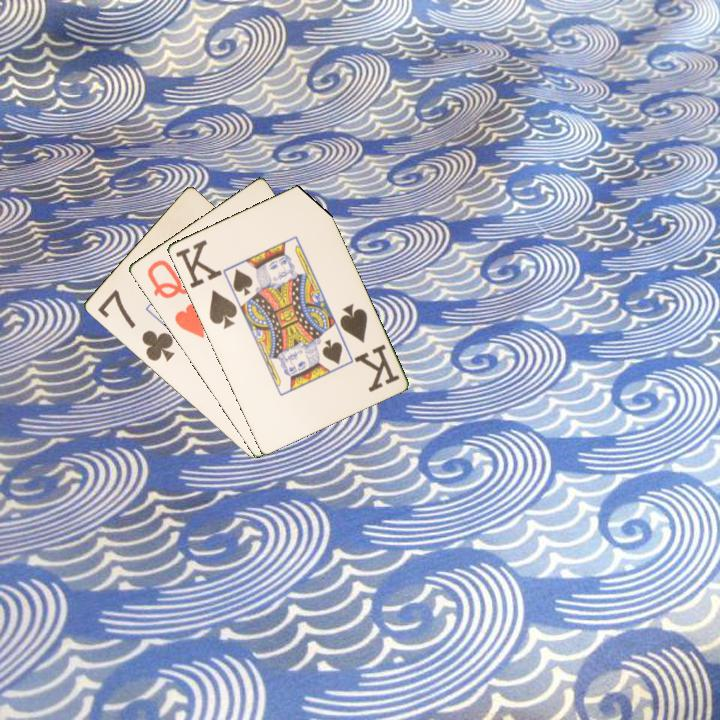7c: (93, 286, 177, 364)
Ks: (171, 236, 240, 332), (336, 300, 402, 395)
Qh: (143, 256, 207, 341)
